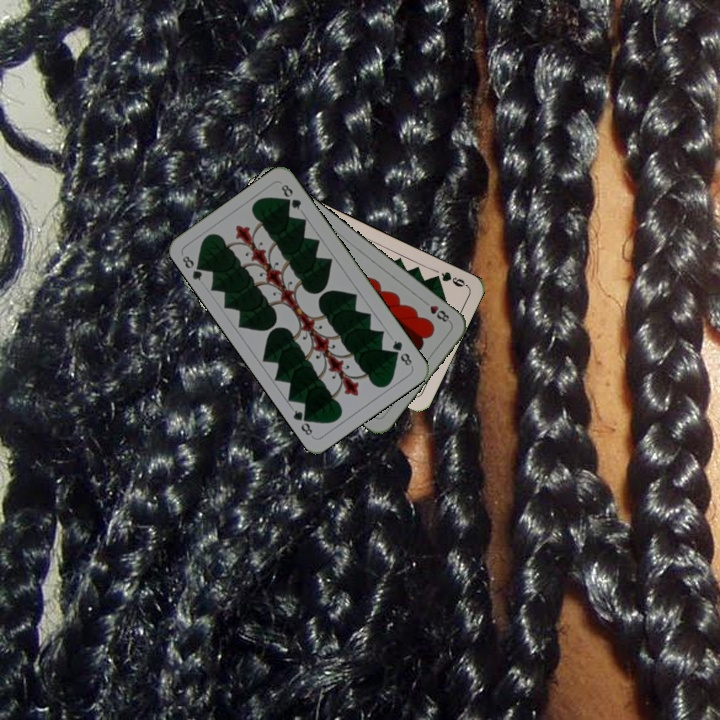G8: (178, 251, 208, 284), (388, 336, 415, 368)
G9: (429, 267, 470, 290)
H8: (419, 296, 453, 325)
